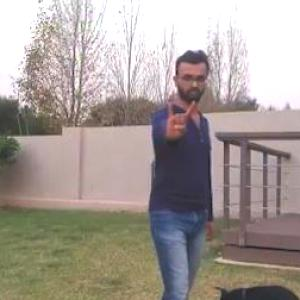takeoff-hand: (156, 95, 199, 142)
